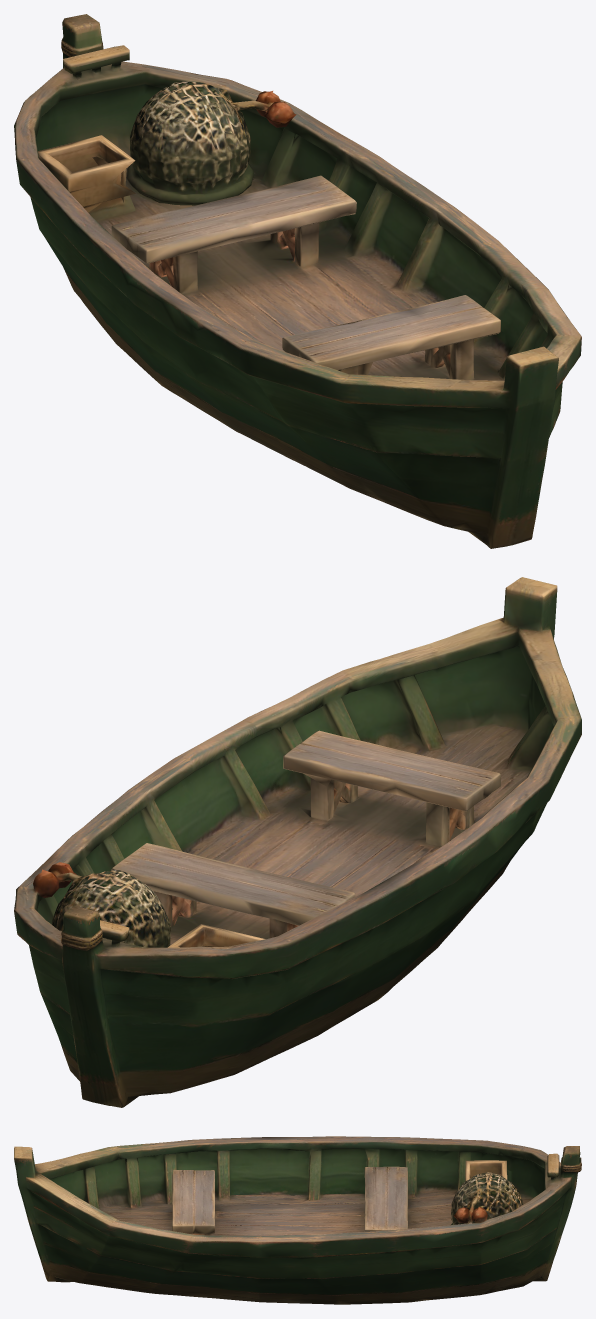
3 renders of one model, top to bottom at view 1: azimuth 30°, elevation 25°; view 2: azimuth 150°, elevation 25°; view 3: azimuth 270°, elevation 25°, orthographic. The views are drawn at different scales.
Parts seen in each view (by area): view 1: tripo_node_df0c7b96-0cf4-4181-97e1-ad6961d6bfa2; view 2: tripo_node_df0c7b96-0cf4-4181-97e1-ad6961d6bfa2; view 3: tripo_node_df0c7b96-0cf4-4181-97e1-ad6961d6bfa2.
Boxes of the visible parts, bbox=[...] form: tripo_node_df0c7b96-0cf4-4181-97e1-ad6961d6bfa2: bbox=[14, 14, 581, 548]; tripo_node_df0c7b96-0cf4-4181-97e1-ad6961d6bfa2: bbox=[14, 577, 581, 1107]; tripo_node_df0c7b96-0cf4-4181-97e1-ad6961d6bfa2: bbox=[14, 1136, 581, 1304].
Bounding box in the file's own units: 0.4036 × 0.2483 × 1.
1 material, 1 textured.
